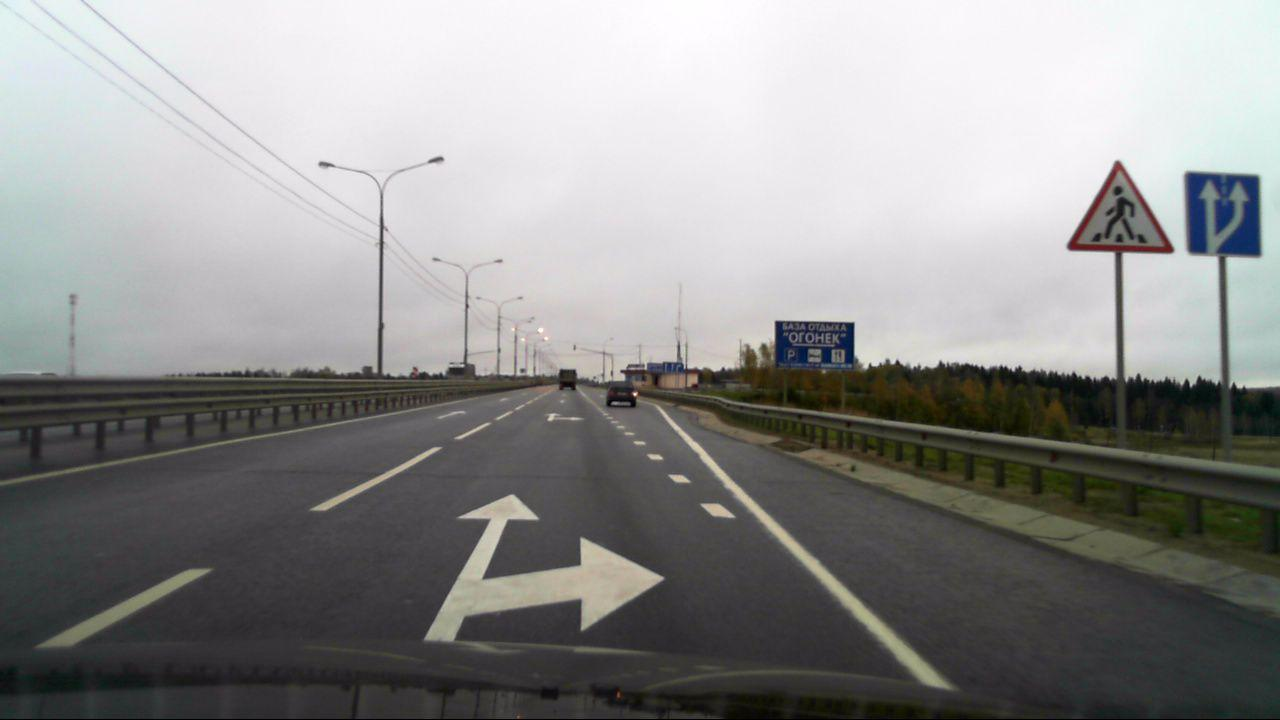1_22: (1069, 161, 1177, 255)
5_15_1: (663, 361, 684, 374)
5_15_3: (1185, 172, 1264, 260)
